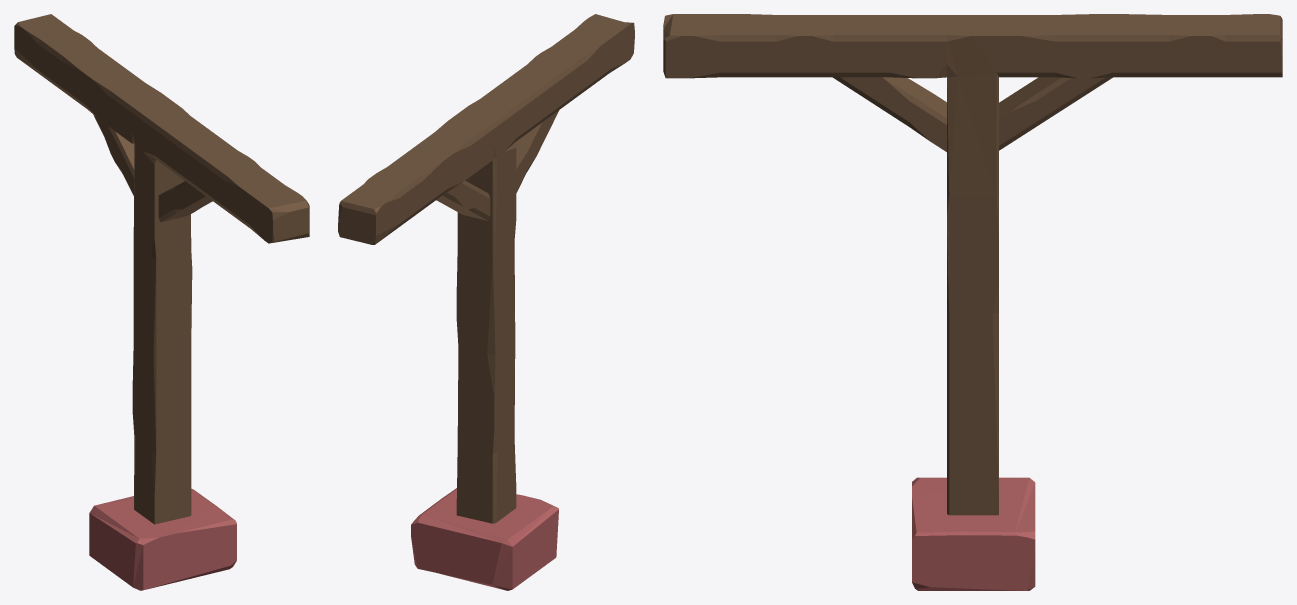
File: PK_Post_T.fbx
3 views of the same model, side by side, from view 1: azimuth 30°, elevation 25°; view 2: azimuth 150°, elevation 25°; view 3: azimuth 270°, elevation 25° (orthographic). The views are drawn at different scales.
Visible parts, largest first — view 1: PK_Post_T; view 2: PK_Post_T; view 3: PK_Post_T.
Boxes of the visible parts, bbox=[...] form: PK_Post_T: bbox=[14, 14, 309, 590]; PK_Post_T: bbox=[338, 14, 634, 590]; PK_Post_T: bbox=[663, 14, 1282, 590].
Bounding box in the file's own units: 48.14 × 210 × 218.
